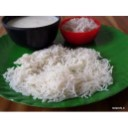idiyappam: (6, 44, 116, 99)
